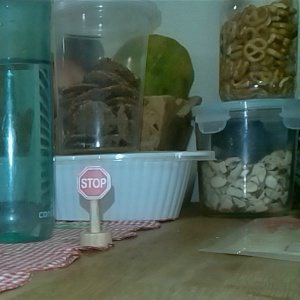stop sign: (74, 162, 114, 250)
